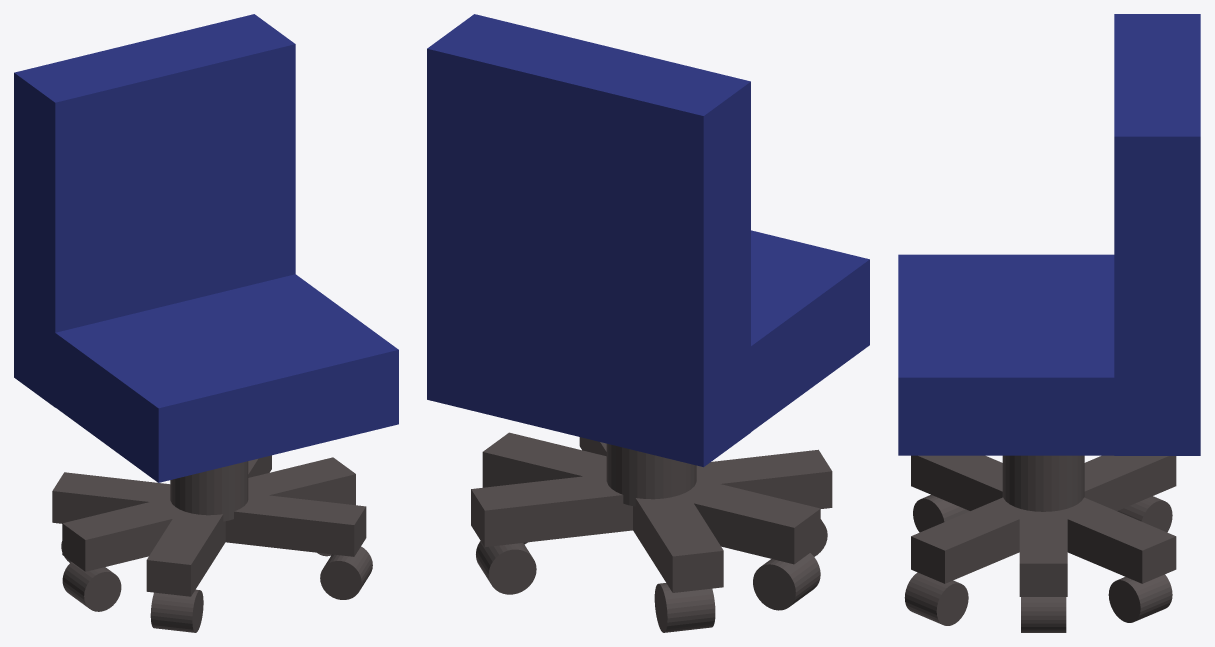
File: chair.obj
The picture shows the model from 3 angles, left to right: view 1: azimuth 30°, elevation 25°; view 2: azimuth 150°, elevation 25°; view 3: azimuth 270°, elevation 25°; orthographic projection. The views are drawn at different scales.
Visible parts, largest first — view 1: Cube.001; view 2: Cube.001; view 3: Cube.001.
Part boxes in pixels (left/top/right/bottom): Cube.001: left=14, top=14, right=398, bottom=632; Cube.001: left=427, top=14, right=869, bottom=632; Cube.001: left=898, top=14, right=1200, bottom=632.
Bounding box in the file's own units: 3.49 × 5.86 × 3.22.
